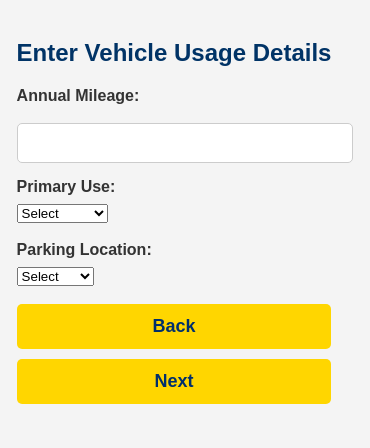
Test: VehicleUsage Component › shows errors for all empty fields on Next click
Click the button with test id "VehicleUsage-nextButton". click: coordinates (174, 382)
box: [17,360,331,404]
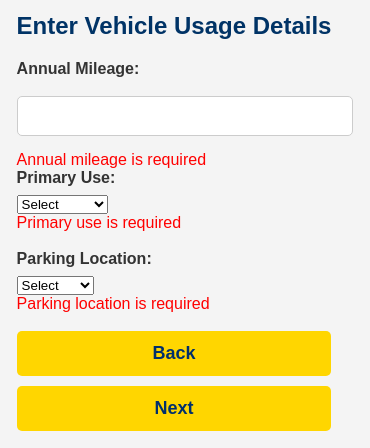
Expected: the text with test id "VehicleUsage-mileageError" reads "Annual mileage is required", [17,152,206,168]
Expected: the text with test id "VehicleUsage-primaryUseError" reads "Primary use is required", [17,214,181,232]
Expected: the text with test id "VehicleUsage-parkingLocationError" reads "Parking location is required", [17,296,210,312]
